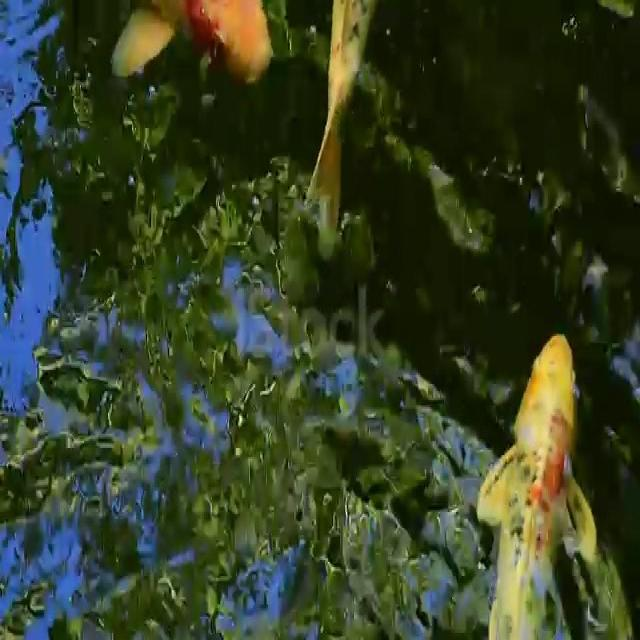fish: (485, 292, 597, 640), (312, 0, 398, 234), (117, 0, 269, 103)
